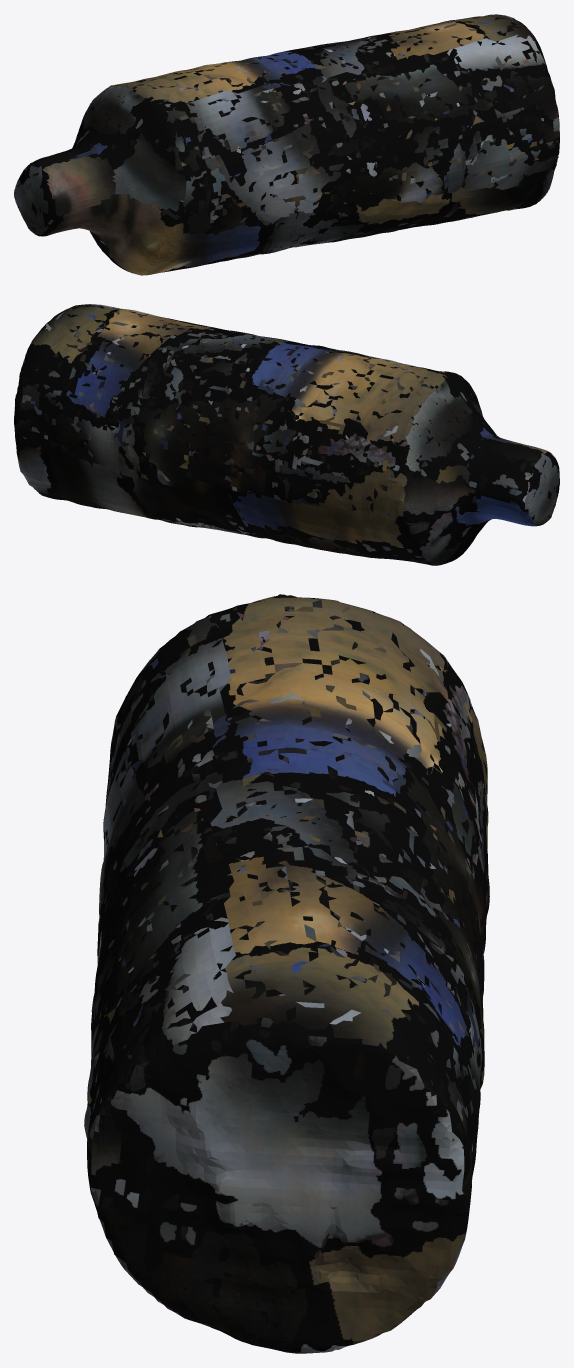
File: center_benchmark_mesh_bottle-85_alcool.obj
3 views of the same model, one above another, from view 1: azimuth 30°, elevation 25°; view 2: azimuth 150°, elevation 25°; view 3: azimuth 270°, elevation 25° (orthographic). The views are drawn at different scales.
Bounding box in the file's own units: 0.1983 × 0.0762 × 0.0696.
